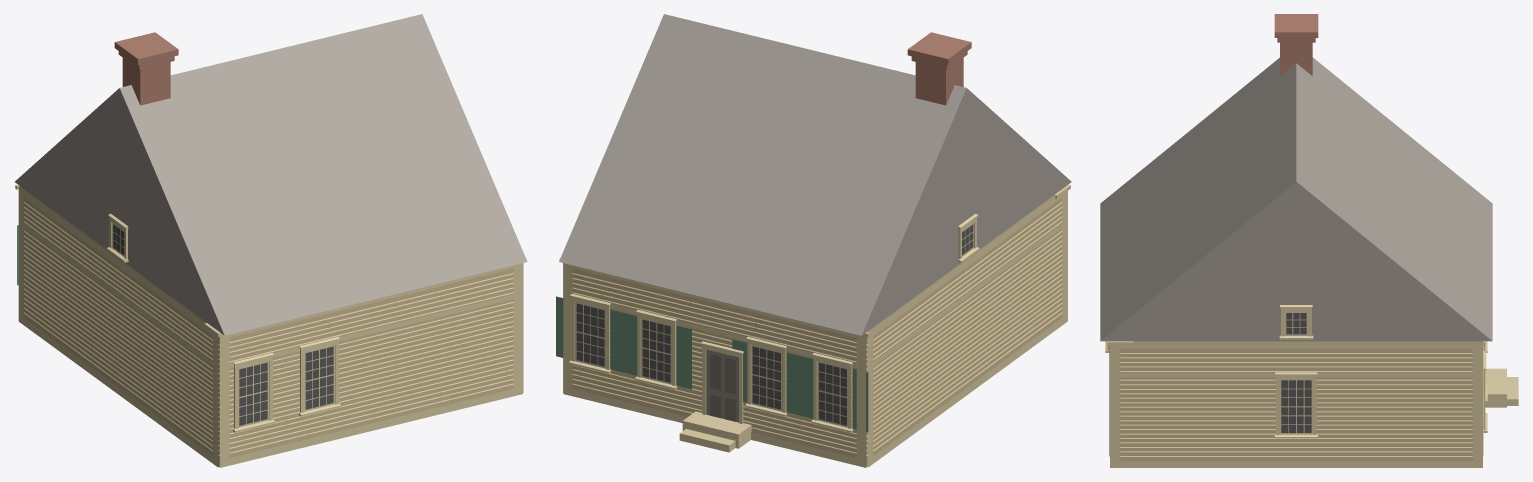
Rendered from recon_1835_blk_washington_wells_h1_02__inferred_1835.glb.
3 renders of one model, left to right at view 1: azimuth 30°, elevation 25°; view 2: azimuth 150°, elevation 25°; view 3: azimuth 270°, elevation 25°, orthographic. The views are drawn at different scales.
Parts seen in each view (by area): view 1: recon_1835_blk_washington_wells_h1_02__inferred_1835; view 2: recon_1835_blk_washington_wells_h1_02__inferred_1835; view 3: recon_1835_blk_washington_wells_h1_02__inferred_1835.
Boxes of the visible parts, <box> form: recon_1835_blk_washington_wells_h1_02__inferred_1835: <box>15,14,527,467</box>; recon_1835_blk_washington_wells_h1_02__inferred_1835: <box>556,14,1071,467</box>; recon_1835_blk_washington_wells_h1_02__inferred_1835: <box>1100,14,1518,467</box>.
Bounding box in the file's own units: 8.69 × 9.05 × 10.76.
